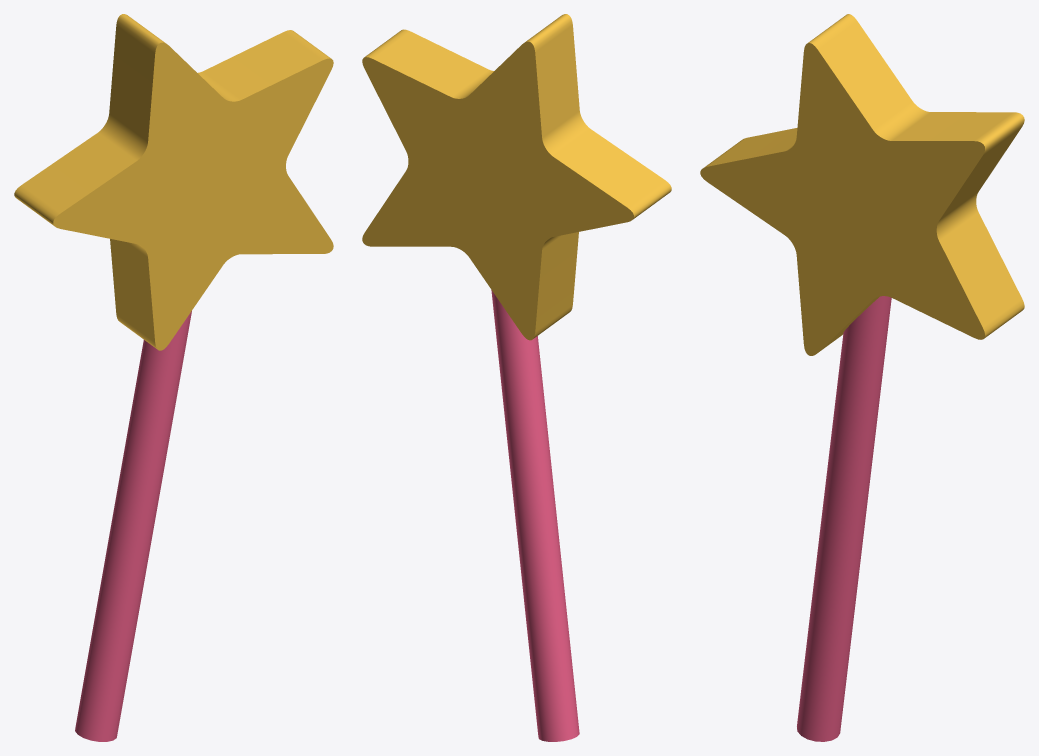
Rendered from star_wand.fbx.
3 renders of one model, left to right at view 1: azimuth 30°, elevation 25°; view 2: azimuth 150°, elevation 25°; view 3: azimuth 330°, elevation 25°, orthographic. The views are drawn at different scales.
Parts seen in each view (by area): view 1: Star001, Cylinder027; view 2: Star001, Cylinder027; view 3: Star001, Cylinder027.
Boxes of the visible parts, box(x1,y1,x2,y2) form: Star001: box(14, 14, 333, 350); Cylinder027: box(75, 311, 191, 741); Star001: box(362, 14, 671, 340); Cylinder027: box(491, 290, 579, 741); Star001: box(700, 14, 1024, 355); Cylinder027: box(797, 296, 891, 741).
Size of the model in its own units: 3.75 by 9.11 by 1.1.
